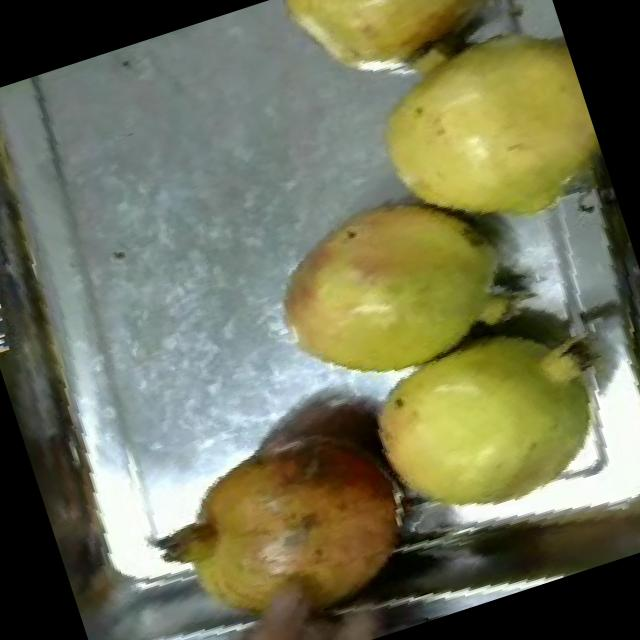fruit: (234, 152, 551, 430), (134, 385, 446, 640), (259, 0, 527, 117)
